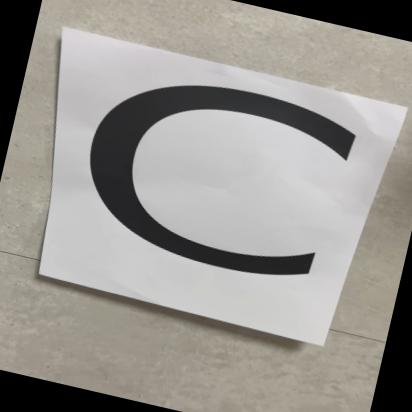seat: (5, 26, 412, 348)
